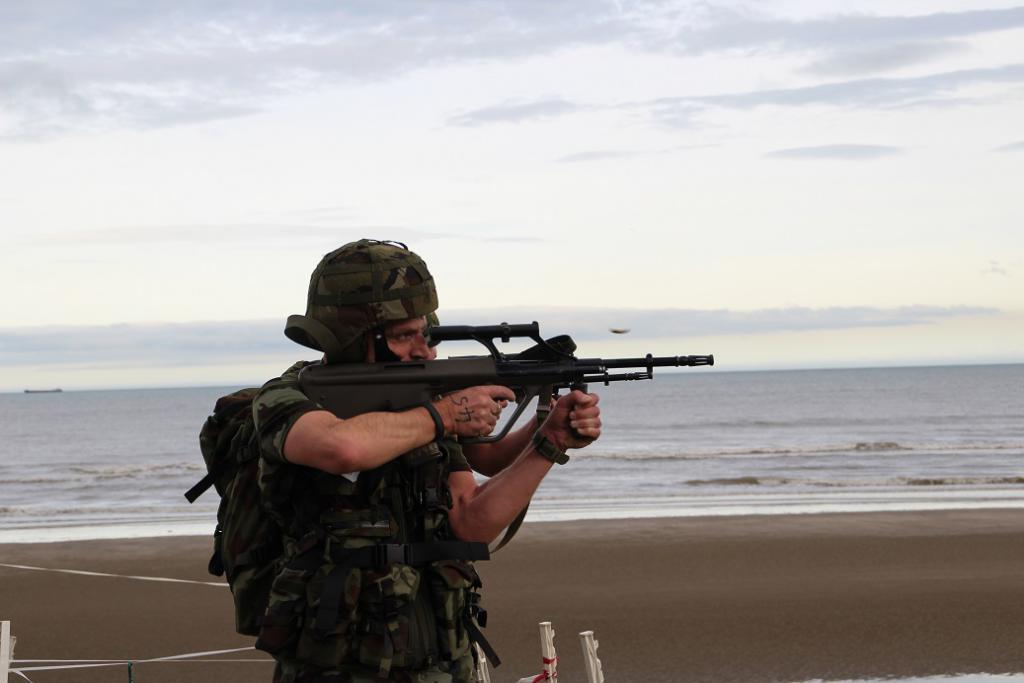Rifle: (299, 319, 717, 443)
